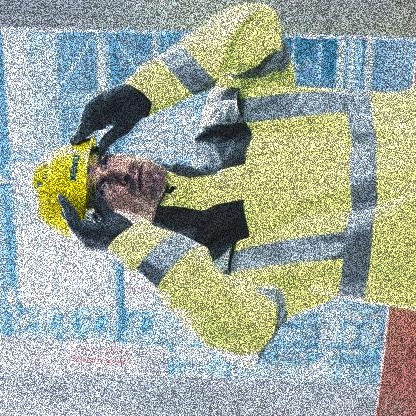vest: (139, 14, 413, 368)
yellow: (21, 124, 101, 244)
